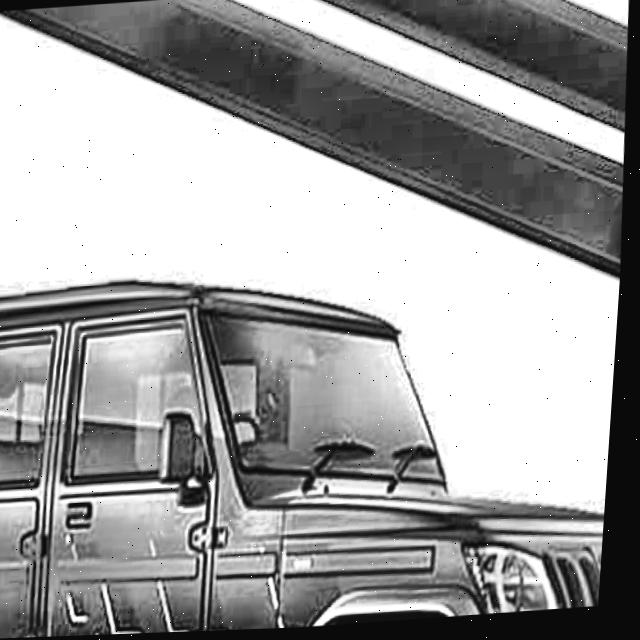light_vehicle: (0, 257, 626, 640)
